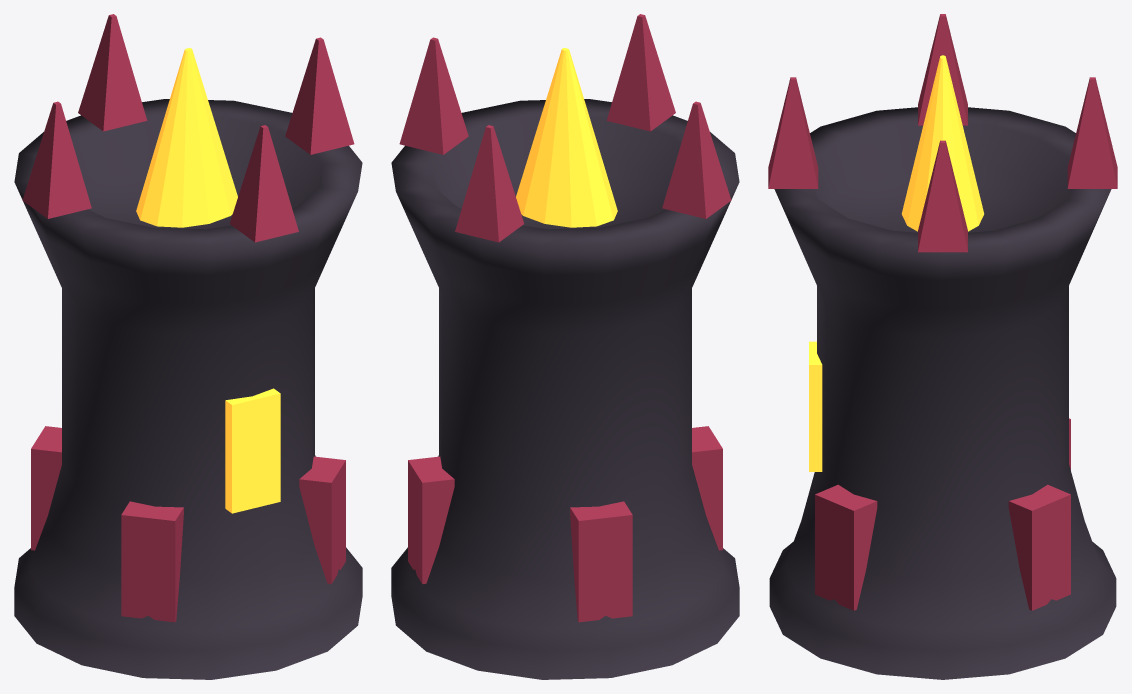
File: rook_b.glb
The picture shows the model from 3 angles, left to right: view 1: azimuth 30°, elevation 25°; view 2: azimuth 150°, elevation 25°; view 3: azimuth 270°, elevation 25°; orthographic projection.
Visible parts, largest first — view 1: Rook_Tower, Hình Nón.120, Khối Lập Phương.026, Khối Lập Phương.028, Hình Nón.118, Hình Nón.119, Hình Nón.116, Hình Nón.117, Khối Lập Phương.027, Khối Lập Phương.025; view 2: Rook_Tower, Hình Nón.120, Khối Lập Phương.025, Hình Nón.118, Hình Nón.117, Hình Nón.116, Hình Nón.119, Khối Lập Phương.024, Khối Lập Phương.026; view 3: Rook_Tower, Khối Lập Phương.024, Khối Lập Phương.027, Hình Nón.120, Hình Nón.116, Hình Nón.117, Hình Nón.119, Hình Nón.118, Khối Lập Phương.028.
Part boxes in pixels (left/top/right/bottom): Rook_Tower: left=14, top=99, right=362, bottom=679; Hình Nón.120: left=136, top=48, right=237, bottom=227; Khối Lập Phương.026: left=121, top=501, right=183, bottom=622; Khối Lập Phương.028: left=225, top=388, right=280, bottom=513; Hình Nón.118: left=22, top=101, right=91, bottom=218; Hình Nón.119: left=229, top=125, right=298, bottom=242; Hình Nón.116: left=285, top=37, right=354, bottom=154; Hình Nón.117: left=78, top=14, right=147, bottom=131; Khối Lập Phương.027: left=299, top=456, right=345, bottom=584; Khối Lập Phương.025: left=31, top=426, right=61, bottom=550; Rook_Tower: left=391, top=99, right=739, bottom=679; Hình Nón.120: left=516, top=48, right=617, bottom=227; Khối Lập Phương.025: left=570, top=501, right=632, bottom=622; Hình Nón.118: left=662, top=101, right=731, bottom=218; Hình Nón.117: left=455, top=125, right=524, bottom=242; Hình Nón.116: left=399, top=37, right=468, bottom=154; Hình Nón.119: left=606, top=14, right=675, bottom=131; Khối Lập Phương.024: left=408, top=456, right=454, bottom=584; Khối Lập Phương.026: left=692, top=426, right=722, bottom=550; Rook_Tower: left=769, top=107, right=1116, bottom=679; Khối Lập Phương.024: left=1008, top=484, right=1070, bottom=610; Khối Lập Phương.027: left=815, top=484, right=877, bottom=610; Hình Nón.120: left=901, top=55, right=984, bottom=231; Hình Nón.116: left=918, top=140, right=967, bottom=252; Hình Nón.117: left=1067, top=77, right=1117, bottom=188; Hình Nón.119: left=768, top=77, right=818, bottom=188; Hình Nón.118: left=918, top=14, right=967, bottom=125; Khối Lập Phương.028: left=809, top=341, right=822, bottom=471.
Bounding box in the file's own units: 0.4436 × 0.77 × 0.4436.
